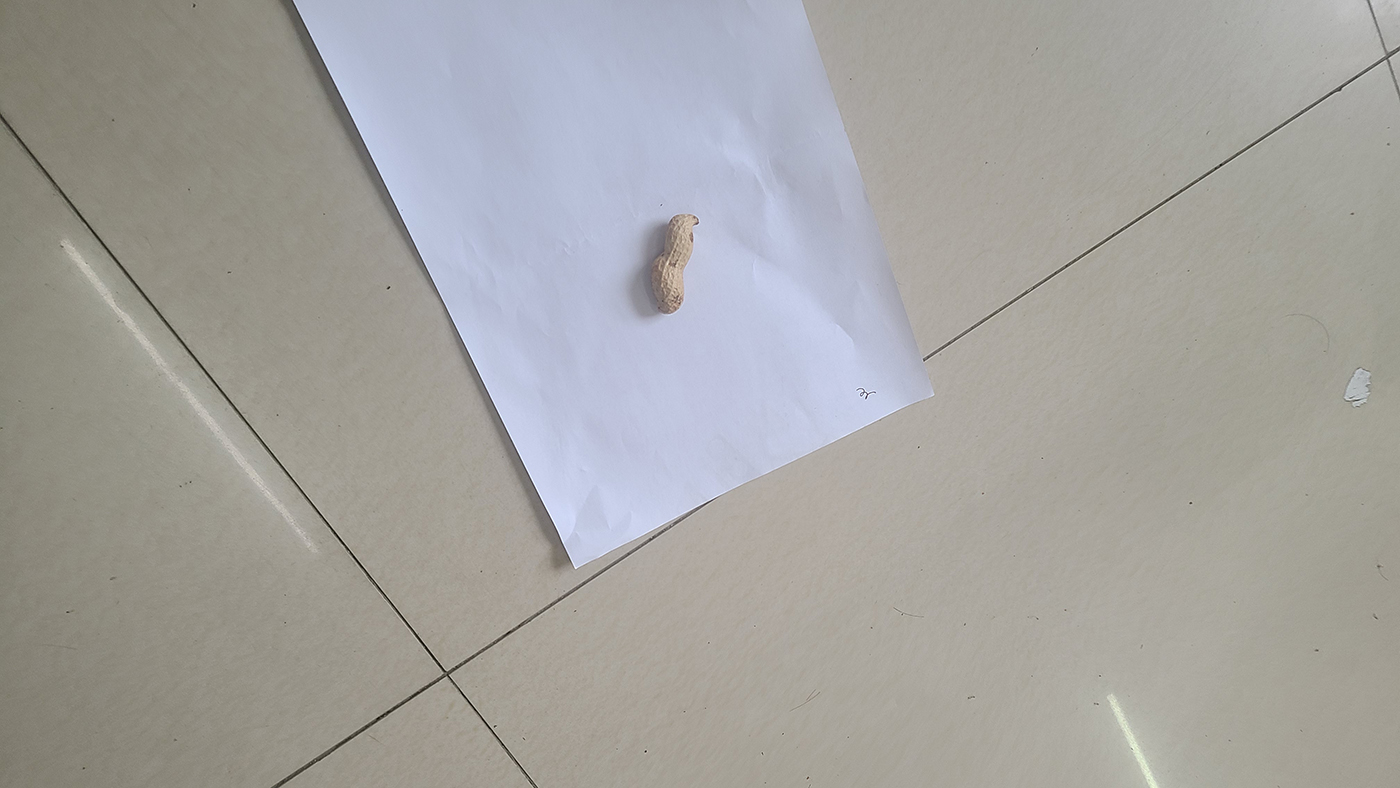h: (648, 214, 699, 314)
